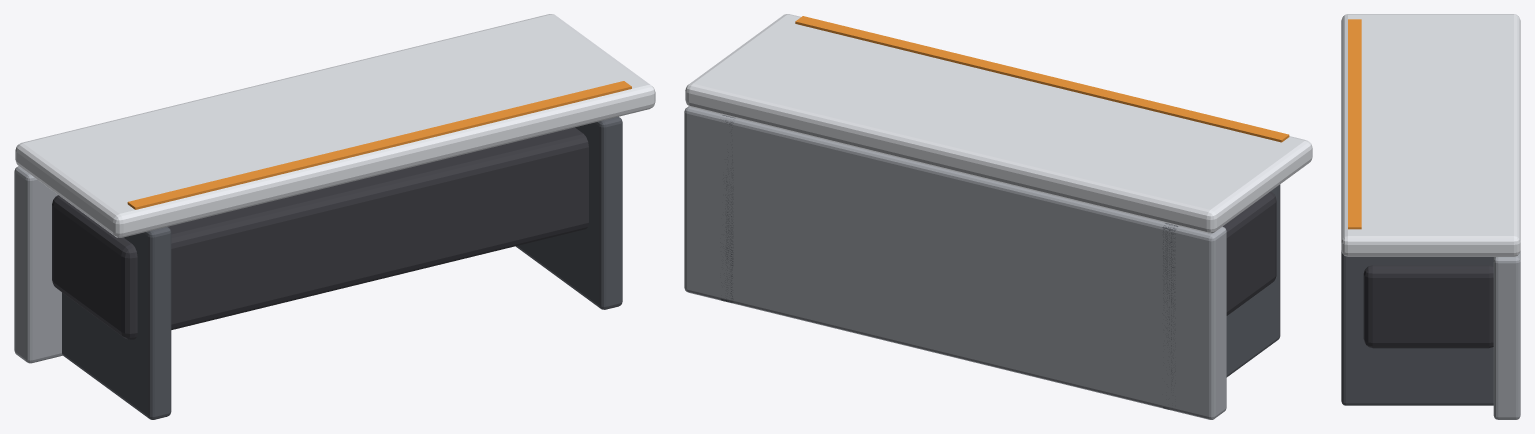
Rendered from bench_locker_room.glb.
The picture shows the model from 3 angles, left to right: view 1: azimuth 30°, elevation 25°; view 2: azimuth 150°, elevation 25°; view 3: azimuth 270°, elevation 25°; orthographic projection. The views are drawn at different scales.
Parts seen in each view (by area): view 1: GD_bench_locker_room__m2, GD_bench_locker_room__m4, GD_bench_locker_room__m1, GD_bench_locker_room__m0, GD_bench_locker_room__m3; view 2: GD_bench_locker_room__m0, GD_bench_locker_room__m2, GD_bench_locker_room__m3, GD_bench_locker_room__m4, GD_bench_locker_room__m1; view 3: GD_bench_locker_room__m2, GD_bench_locker_room__m1, GD_bench_locker_room__m4, GD_bench_locker_room__m0, GD_bench_locker_room__m3.
Boxes of the visible parts, x1,y1,x2,y2 form: GD_bench_locker_room__m2: (15,14,655,237); GD_bench_locker_room__m4: (52,127,588,339); GD_bench_locker_room__m1: (62,116,622,419); GD_bench_locker_room__m0: (14,166,62,363); GD_bench_locker_room__m3: (127,81,631,209); GD_bench_locker_room__m0: (684,106,1226,419); GD_bench_locker_room__m2: (685,14,1312,233); GD_bench_locker_room__m3: (795,16,1289,142); GD_bench_locker_room__m4: (1223,191,1276,315); GD_bench_locker_room__m1: (720,115,1280,410); GD_bench_locker_room__m2: (1341,14,1520,256); GD_bench_locker_room__m1: (1341,250,1493,405); GD_bench_locker_room__m4: (1363,265,1493,348); GD_bench_locker_room__m0: (1493,250,1520,419); GD_bench_locker_room__m3: (1348,19,1361,229).
Size of the model in its own units: 1.2 by 0.455 by 0.4.
